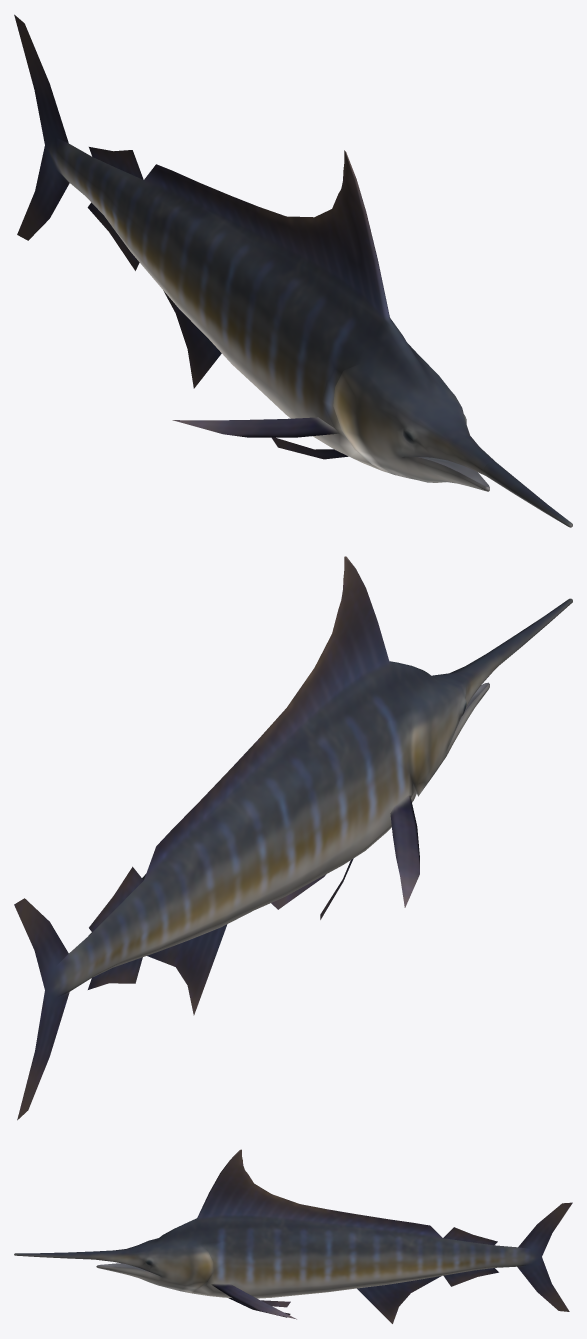
Rendered from blue-marlin.glb.
3 renders of one model, top to bottom at view 1: azimuth 30°, elevation 25°; view 2: azimuth 150°, elevation 25°; view 3: azimuth 270°, elevation 25°, orthographic. The views are drawn at different scales.
Parts seen in each view (by area): view 1: FishKajiki__mKajiki; view 2: FishKajiki__mKajiki; view 3: FishKajiki__mKajiki.
Part boxes in pixels (box(x1,y1,x2,y2)): FishKajiki__mKajiki: box(14, 14, 572, 527); FishKajiki__mKajiki: box(14, 556, 572, 1120); FishKajiki__mKajiki: box(14, 1149, 572, 1323).
Size of the model in its own units: 6.59 by 9.45 by 27.36.
1 material, 1 textured.
